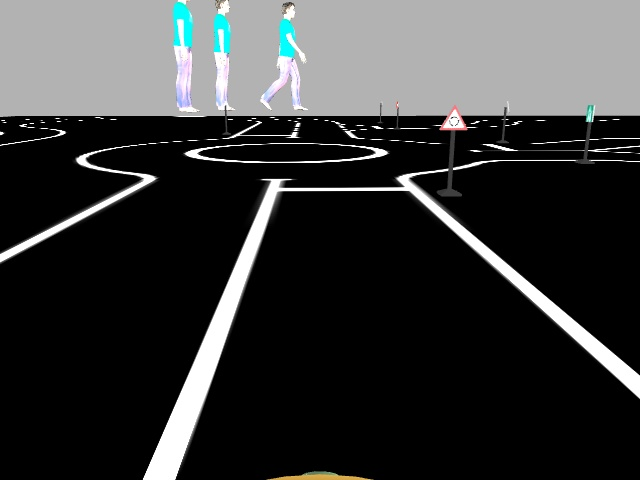Roundabout: (436, 103, 468, 134)
